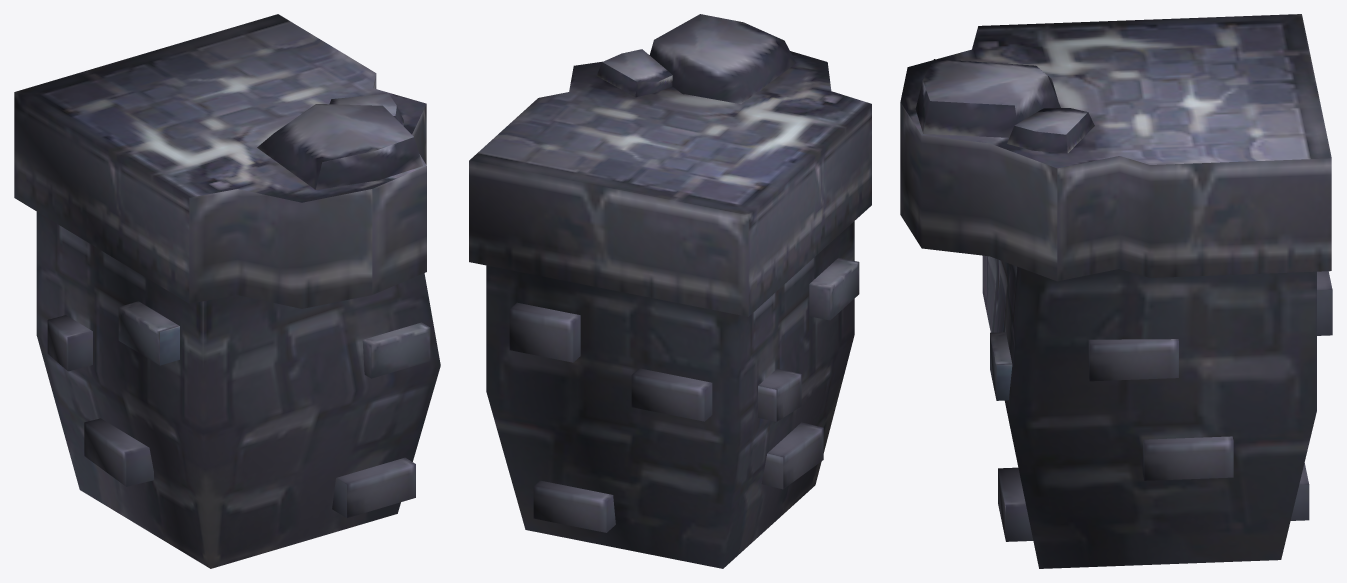
Rendered from Beidaying_podunzi.FBX.
The picture shows the model from 3 angles, left to right: view 1: azimuth 30°, elevation 25°; view 2: azimuth 150°, elevation 25°; view 3: azimuth 270°, elevation 25°; orthographic projection. The views are drawn at different scales.
Parts seen in each view (by area): view 1: Beidaying_podunzi; view 2: Beidaying_podunzi; view 3: Beidaying_podunzi.
Boxes of the visible parts, <box> form: Beidaying_podunzi: <box>14,14,440,568</box>; Beidaying_podunzi: <box>469,14,871,568</box>; Beidaying_podunzi: <box>900,14,1332,568</box>.
Bounding box in the file's own units: 133 × 157 × 182.
